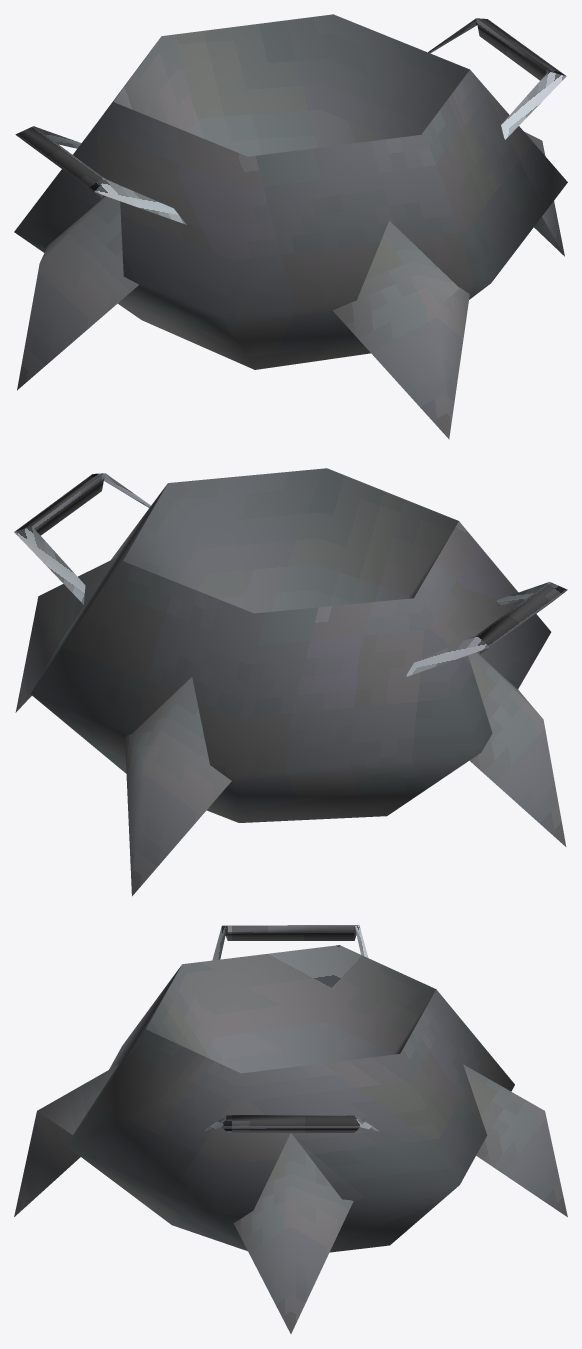
The model's file is eqp_cook_pot_sm_l2.fbx.
The picture shows the model from 3 angles, top to bottom: view 1: azimuth 30°, elevation 25°; view 2: azimuth 150°, elevation 25°; view 3: azimuth 270°, elevation 25°; orthographic projection. The views are drawn at different scales.
Parts seen in each view (by area): view 1: mesh_node; view 2: mesh_node; view 3: mesh_node.
Part boxes in pixels (x1,y1,x2,y2): mesh_node: [14, 14, 567, 439]; mesh_node: [14, 468, 567, 896]; mesh_node: [14, 925, 567, 1333].
Size of the model in its own units: 0.3926 by 0.1631 by 0.3926.
